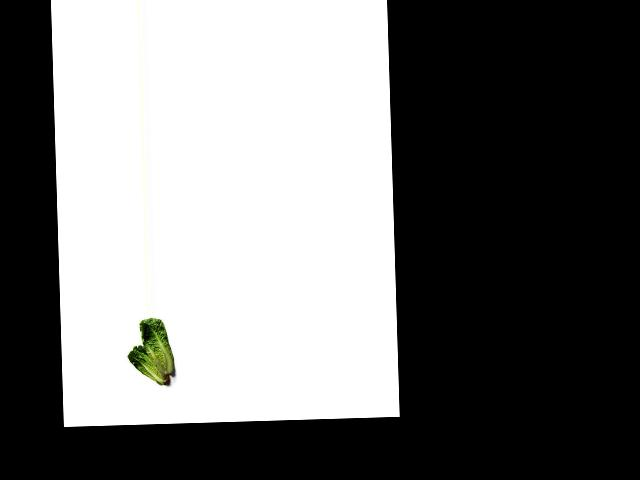lettuce: (127, 344, 171, 389)
